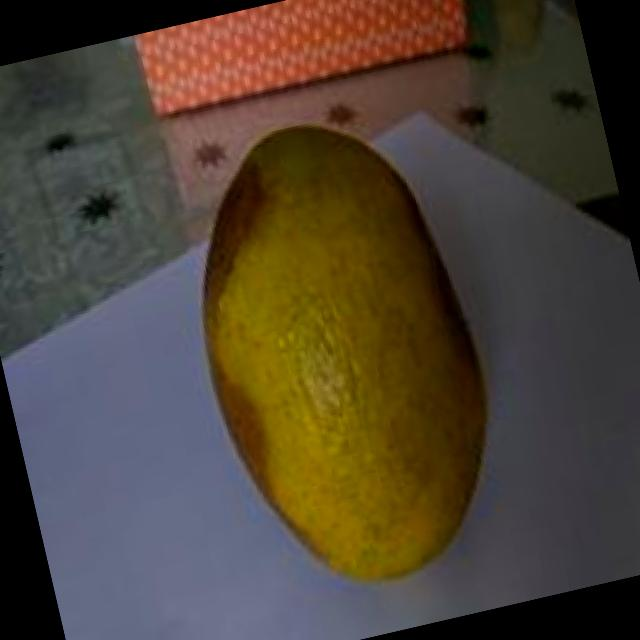Rotten_Orange: (115, 51, 558, 611)
